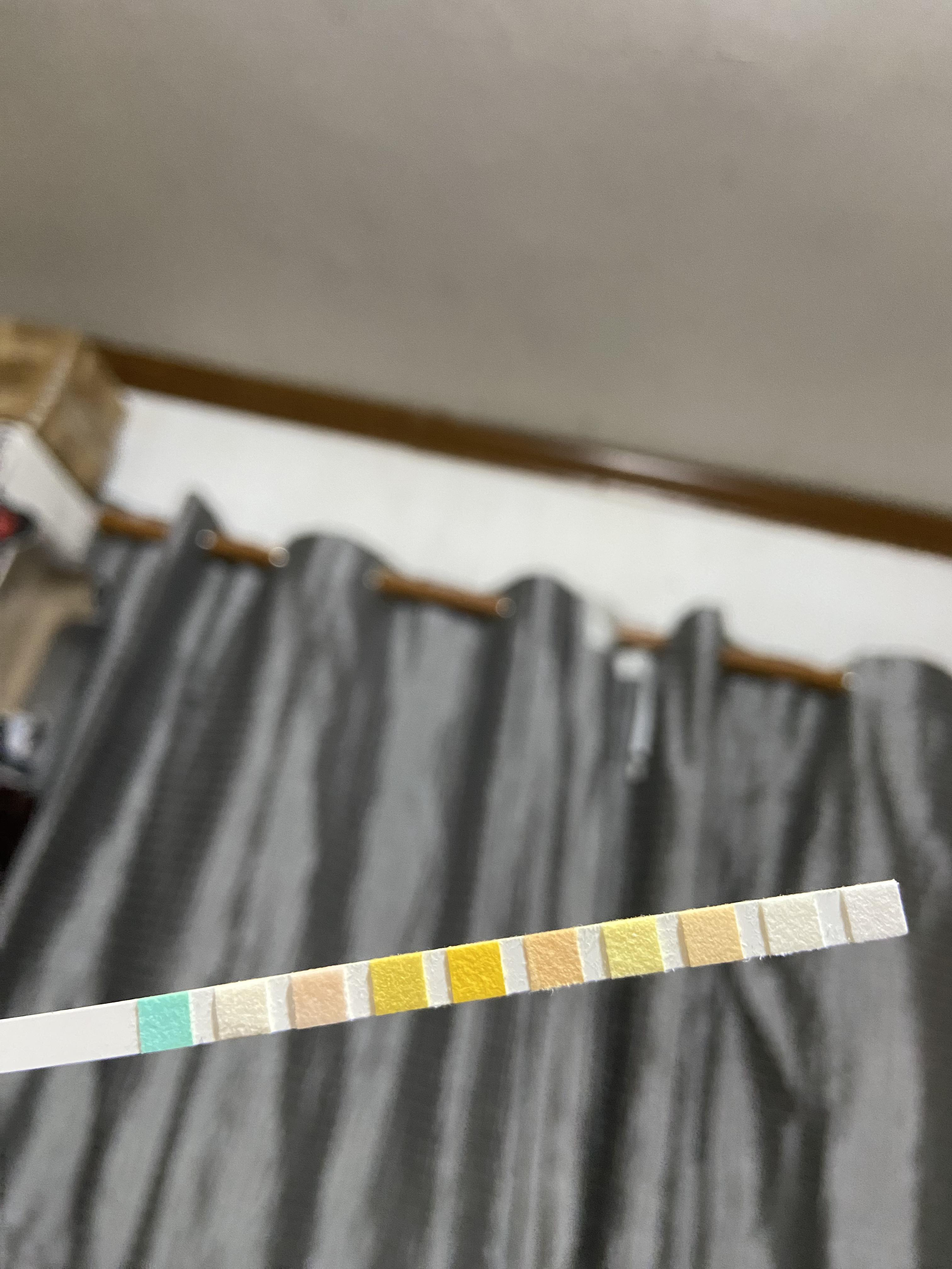Bilirubin: (221, 985, 265, 1033)
Blood: (456, 946, 499, 996)
Glucose: (140, 1000, 189, 1046)
Ketone: (298, 972, 344, 1021)
Leukocytes: (855, 884, 898, 937)
Nitrite: (769, 898, 816, 949)
Protein: (612, 921, 656, 972)
SpGravity: (377, 959, 422, 1009)
Urobilinogen: (691, 910, 735, 961)
pH: (532, 934, 577, 984)
strip: (0, 879, 910, 1074)
